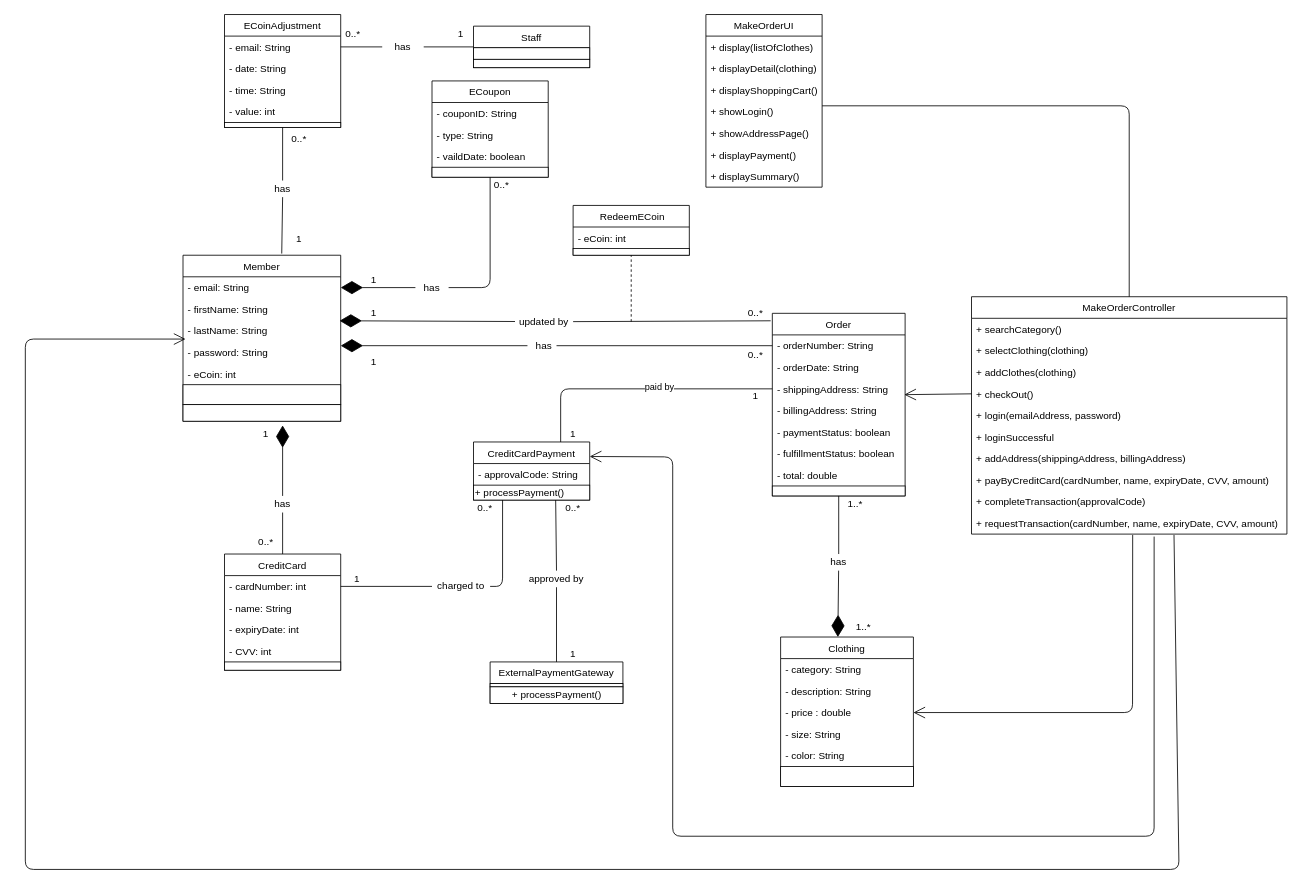
This 1301x896 diagram has some shape labels left out. The shapes that lost their labels are listed below. From the top down, each one's centre as x and y in pixels, then its label:
At [261,394]: "+ addCoin(amount)".
At [261,412]: "+ verify(emailAddress, password)".
At [846,776]: "+getClothesDetail(category)".
